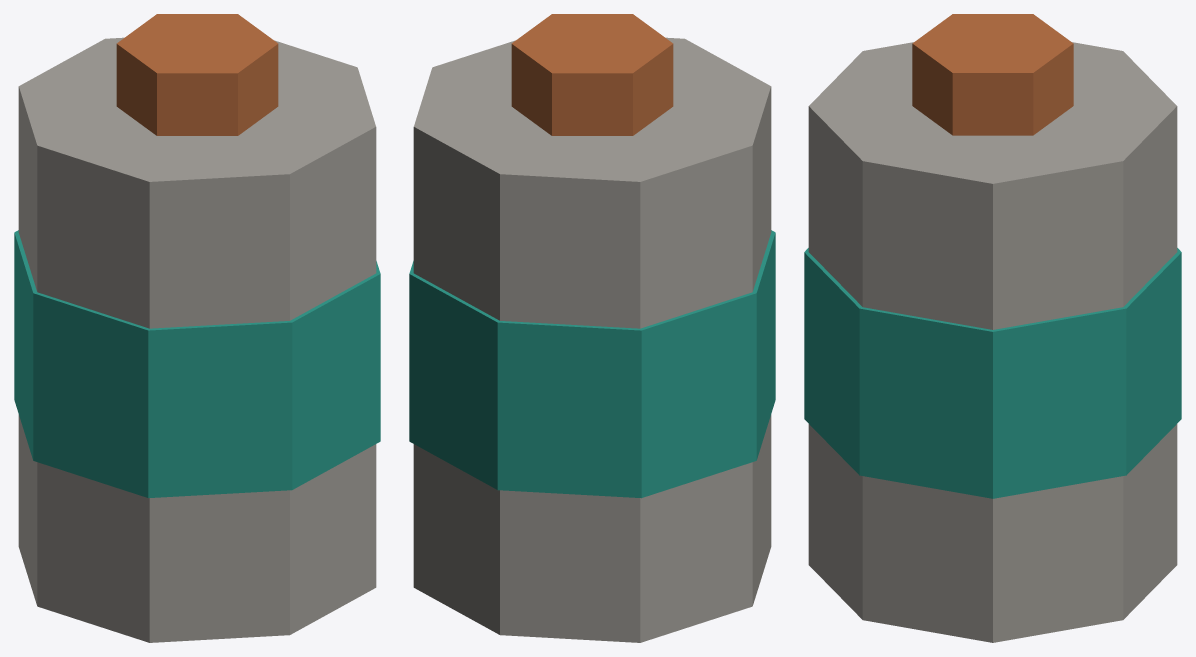
File: cell.fbx
3 renders of one model, left to right at view 1: azimuth 30°, elevation 25°; view 2: azimuth 150°, elevation 25°; view 3: azimuth 270°, elevation 25°, orthographic.
Parts seen in each view (by area): view 1: cell; view 2: cell; view 3: cell.
Part boxes in pixels (x1=…): cell: x1=14, y1=14, x2=380, y2=642; cell: x1=409, y1=14, x2=775, y2=642; cell: x1=804, y1=14, x2=1181, y2=642.
Size of the model in its own units: 0.492 by 0.75 by 0.492.
